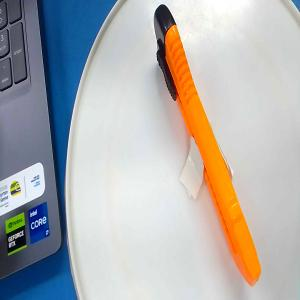estilete: (152, 2, 262, 288)
